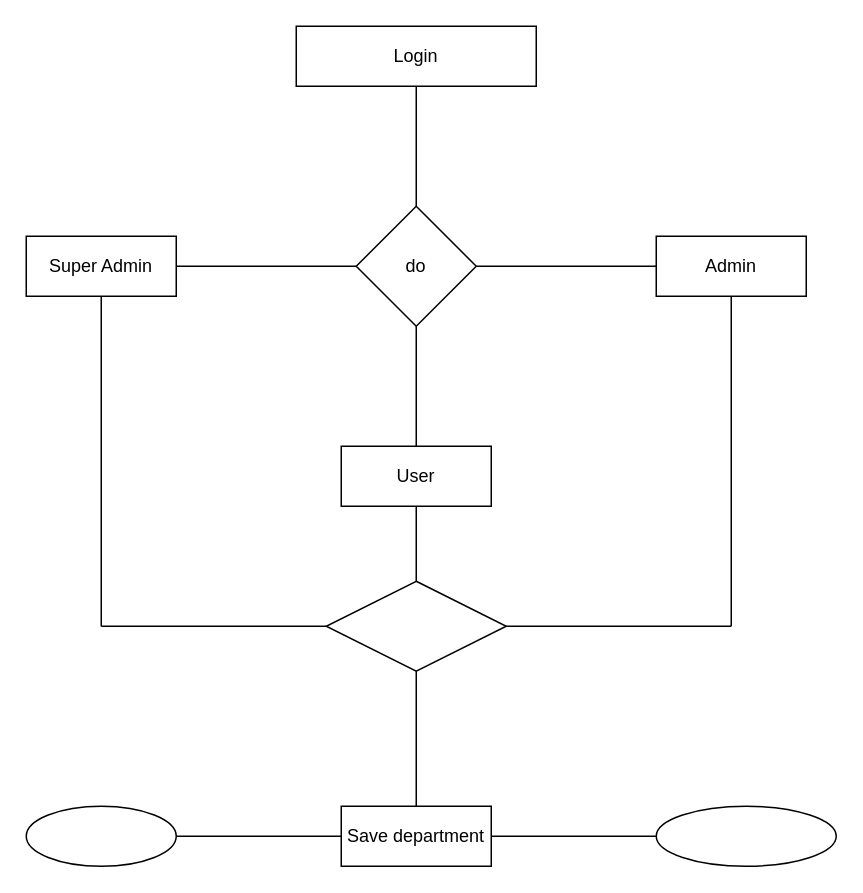
Image size: 863x893. Some labels were removed from this diagram. The box of each missing label's shape, as (x1, y1, x2, y2) in pixels:
department_id: (25, 805, 176, 866)
department_name: (655, 805, 836, 866)
Manage: (325, 580, 506, 671)
